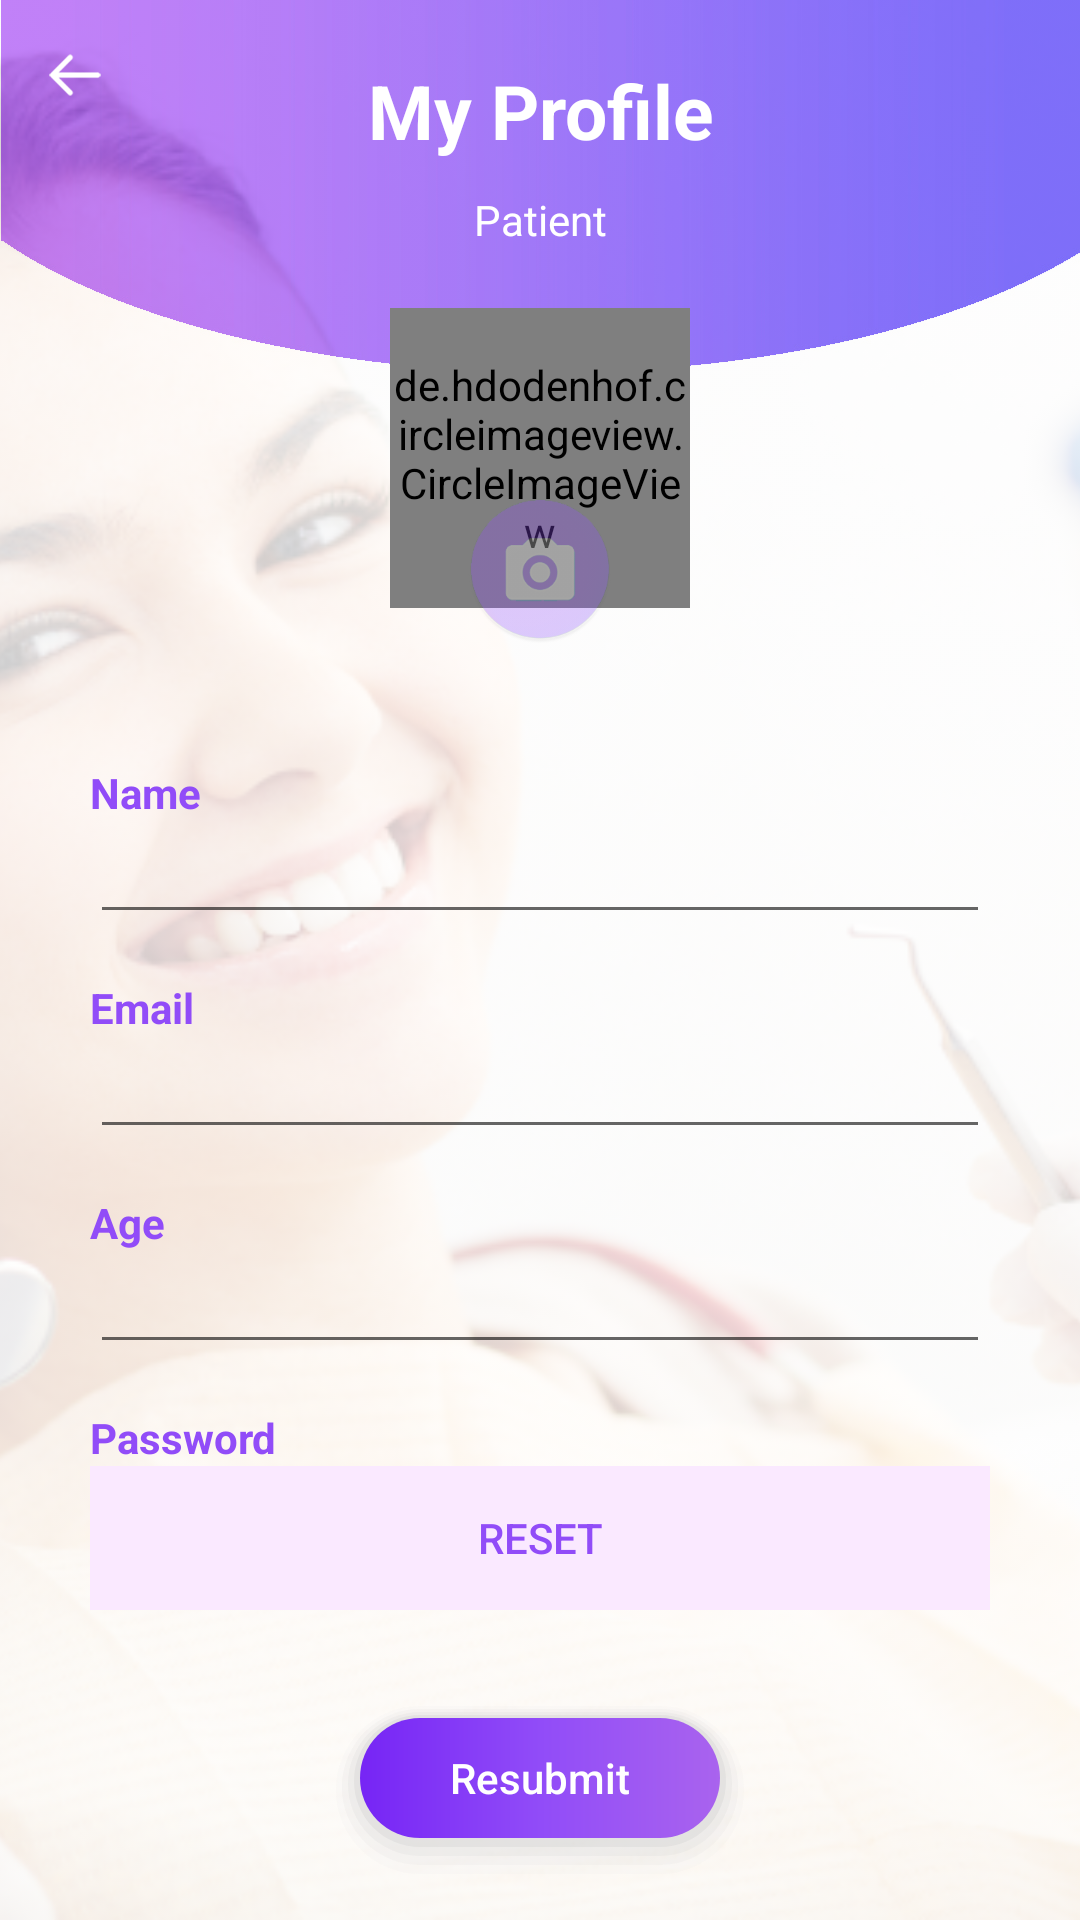

Point at icon controls on the screen. Image size 1080 × 1920, points as point (x, y).
leftarrow: point (75, 82)
